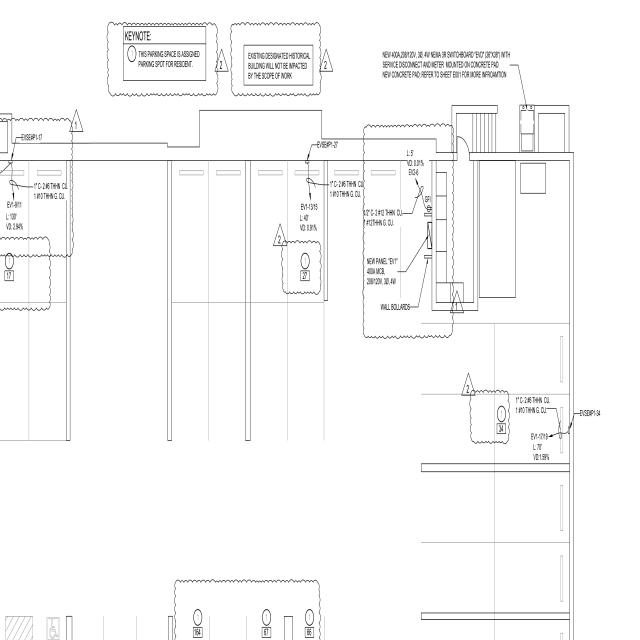gfi: (426, 205, 432, 212)
panel: (426, 218, 434, 252)
